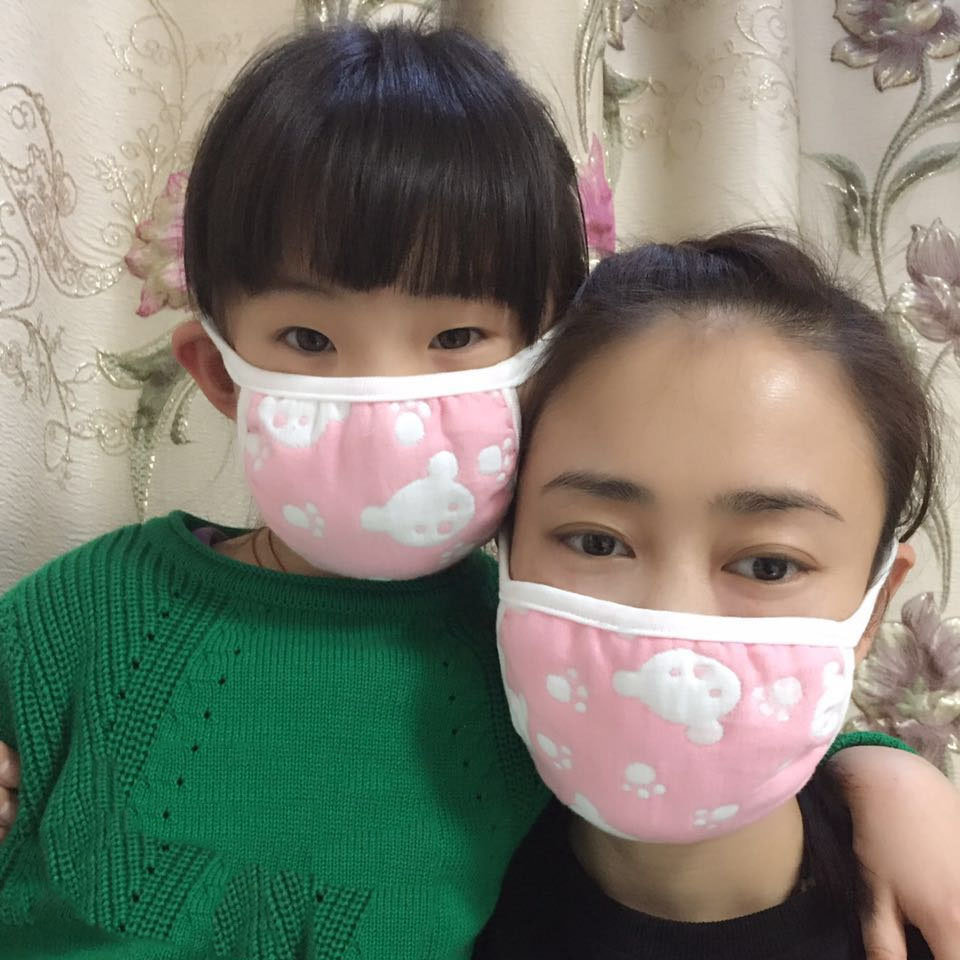face_mask: (499, 329, 872, 837), (229, 199, 532, 556)
